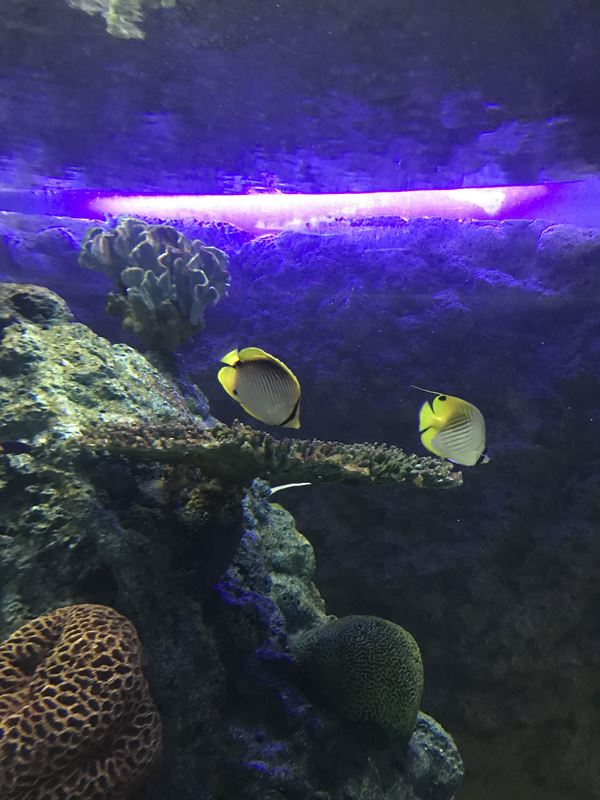Black-backed butterflyfish: (205, 333, 309, 439)
